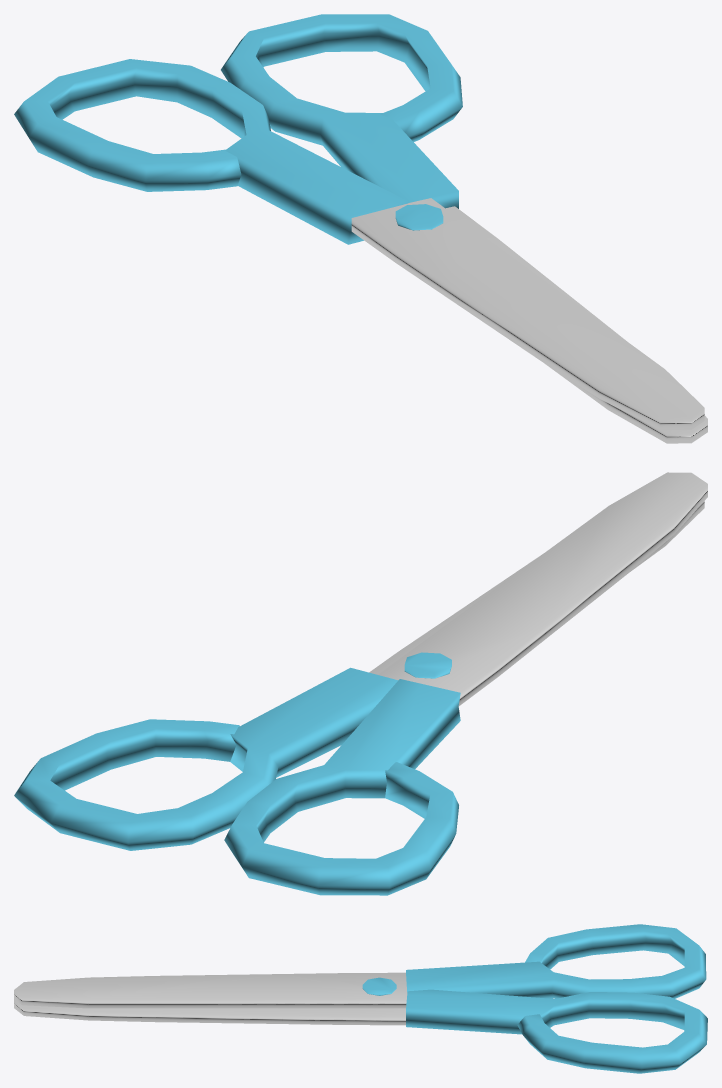
The model's file is Ciseaux.fbx.
The picture shows the model from 3 angles, top to bottom: view 1: azimuth 30°, elevation 25°; view 2: azimuth 150°, elevation 25°; view 3: azimuth 270°, elevation 25°; orthographic projection. The views are drawn at different scales.
Visible parts, largest first — view 1: Ciseaux; view 2: Ciseaux; view 3: Ciseaux.
Boxes of the visible parts, left/top/right/bottom form: Ciseaux: left=14, top=14, right=707, bottom=443; Ciseaux: left=14, top=472, right=707, bottom=895; Ciseaux: left=14, top=924, right=707, bottom=1073.
Size of the model in its own units: 5.95 by 0.473 by 12.98.
